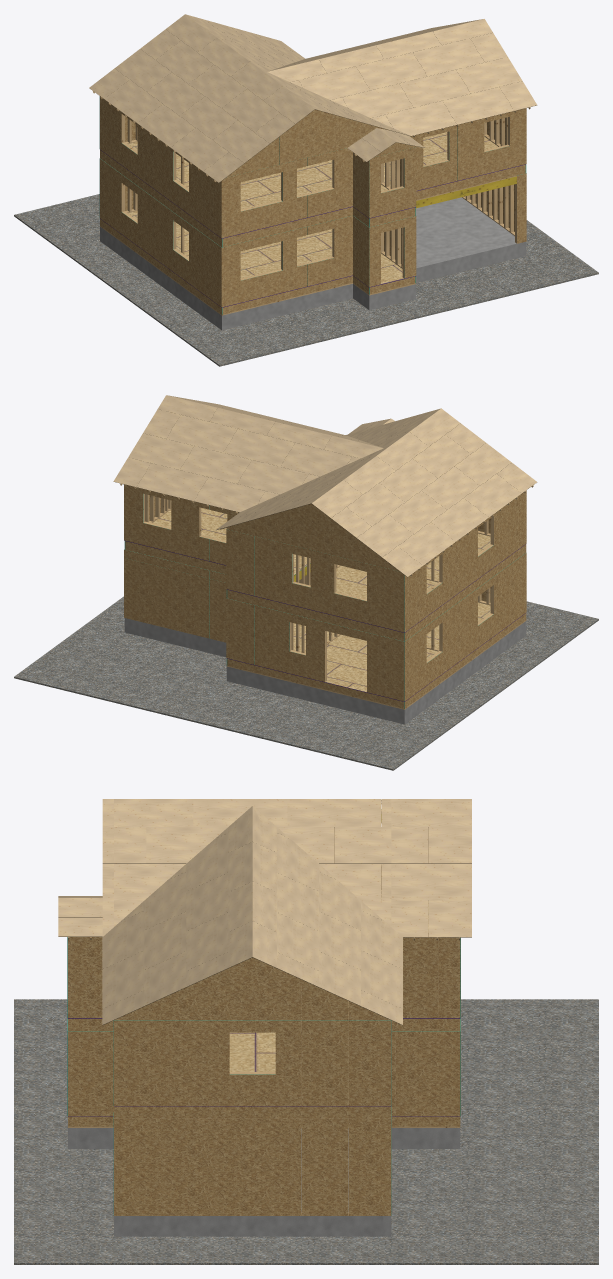
Rendered from framed-house.glb.
3 views of the same model, one above another, from view 1: azimuth 30°, elevation 25°; view 2: azimuth 150°, elevation 25°; view 3: azimuth 270°, elevation 25° (orthographic). The views are drawn at different scales.
Visible parts, largest first — view 1: site_site_00, roofsheathing_rsh_03, roofsheathing_rsh_02, foundation_foundation_00, wallsheathing_wsh1_03, wallsheathing_wsh0_06, wallsheathing_wsh0_03, wallsheathing_wsh1_05, wallsheathing_gsh_01, roofsheathing_rsh_04, wallsheathing_wsh1_00, wallsheathing_wsh0_00 (+19 smaller); view 2: site_site_00, roofsheathing_rsh_03, roofsheathing_rsh_05, wallsheathing_wsh1_08, wallsheathing_wsh0_09, wallsheathing_wsh0_07, wallsheathing_wsh0_06, foundation_foundation_00, wallsheathing_wsh1_05, wallsheathing_wsh1_06, wallsheathing_gsh_03, roofsheathing_rsh_04 (+11 smaller); view 3: site_site_00, roofsheathing_rsh_04, wallsheathing_wsh0_05, wallsheathing_wsh1_04, roofsheathing_rsh_05, roofsheathing_rsh_02, wallsheathing_gsh_02, foundation_foundation_00, wallsheathing_wsh0_08, wallsheathing_wsh1_07, wallsheathing_wsh0_02, wallsheathing_wsh1_02 (+6 smaller).
Boxes of the visible parts, x1,y1,x2,y2 form: site_site_00: [14, 194, 598, 366]; roofsheathing_rsh_03: [89, 14, 314, 182]; roofsheathing_rsh_02: [267, 19, 537, 136]; foundation_foundation_00: [100, 197, 526, 330]; wallsheathing_wsh1_03: [221, 108, 526, 238]; wallsheathing_wsh0_06: [100, 158, 221, 306]; wallsheathing_wsh0_03: [221, 173, 526, 307]; wallsheathing_wsh1_05: [100, 96, 221, 237]; wallsheathing_gsh_01: [227, 109, 388, 177]; roofsheathing_rsh_04: [186, 14, 410, 136]; wallsheathing_wsh1_00: [369, 147, 416, 218]; wallsheathing_wsh0_00: [369, 216, 416, 287]; site_site_00: [14, 596, 598, 770]; roofsheathing_rsh_03: [311, 408, 537, 577]; roofsheathing_rsh_05: [113, 395, 383, 512]; wallsheathing_wsh1_08: [226, 529, 404, 632]; wallsheathing_wsh0_09: [226, 598, 404, 701]; wallsheathing_wsh0_07: [124, 549, 226, 642]; wallsheathing_wsh0_06: [405, 552, 526, 700]; foundation_foundation_00: [124, 618, 526, 724]; wallsheathing_wsh1_05: [405, 490, 526, 631]; wallsheathing_wsh1_06: [124, 484, 239, 564]; wallsheathing_gsh_03: [226, 503, 399, 571]; roofsheathing_rsh_04: [216, 408, 440, 530]; site_site_00: [14, 999, 598, 1264]; roofsheathing_rsh_04: [102, 799, 471, 937]; wallsheathing_wsh0_05: [114, 1119, 390, 1215]; wallsheathing_wsh1_04: [114, 1020, 390, 1105]; roofsheathing_rsh_05: [252, 806, 402, 1025]; roofsheathing_rsh_02: [102, 806, 252, 1025]; wallsheathing_gsh_02: [114, 957, 390, 1020]; foundation_foundation_00: [68, 1128, 460, 1236]; wallsheathing_wsh0_08: [396, 1031, 460, 1116]; wallsheathing_wsh1_07: [403, 933, 460, 1017]; wallsheathing_wsh0_02: [68, 1031, 113, 1116]; wallsheathing_wsh1_02: [68, 937, 102, 1017].
Size of the model in its own units: 16.2 by 8.51 by 15.2.
Materials: 12 (9 with a texture image).
